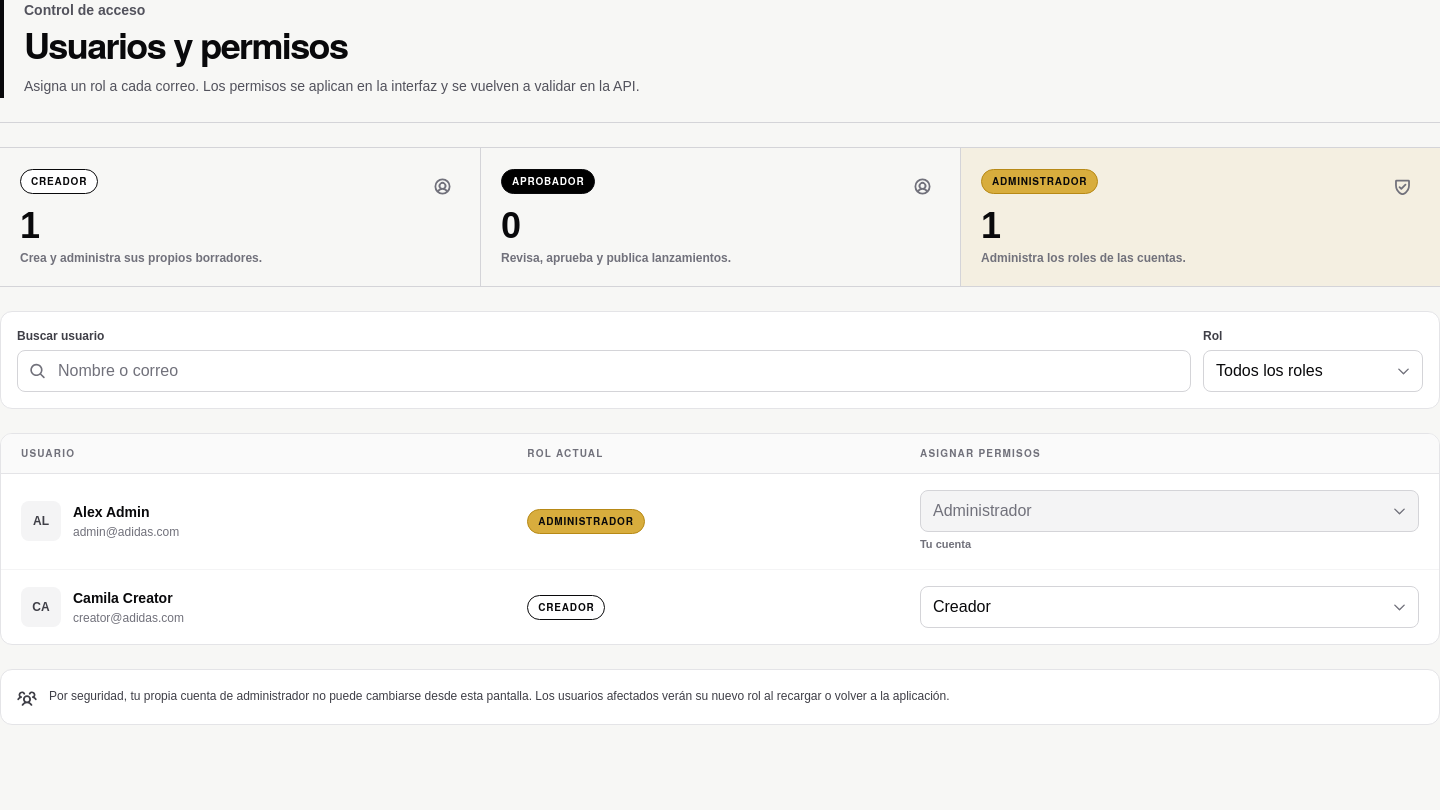
Test case: UserManagementPage › requests confirmation before updating a role
Select "Aprobador" in the dropdown named "Rol de creator@adidas.com" at (1170, 606), box [920, 586, 1419, 628]
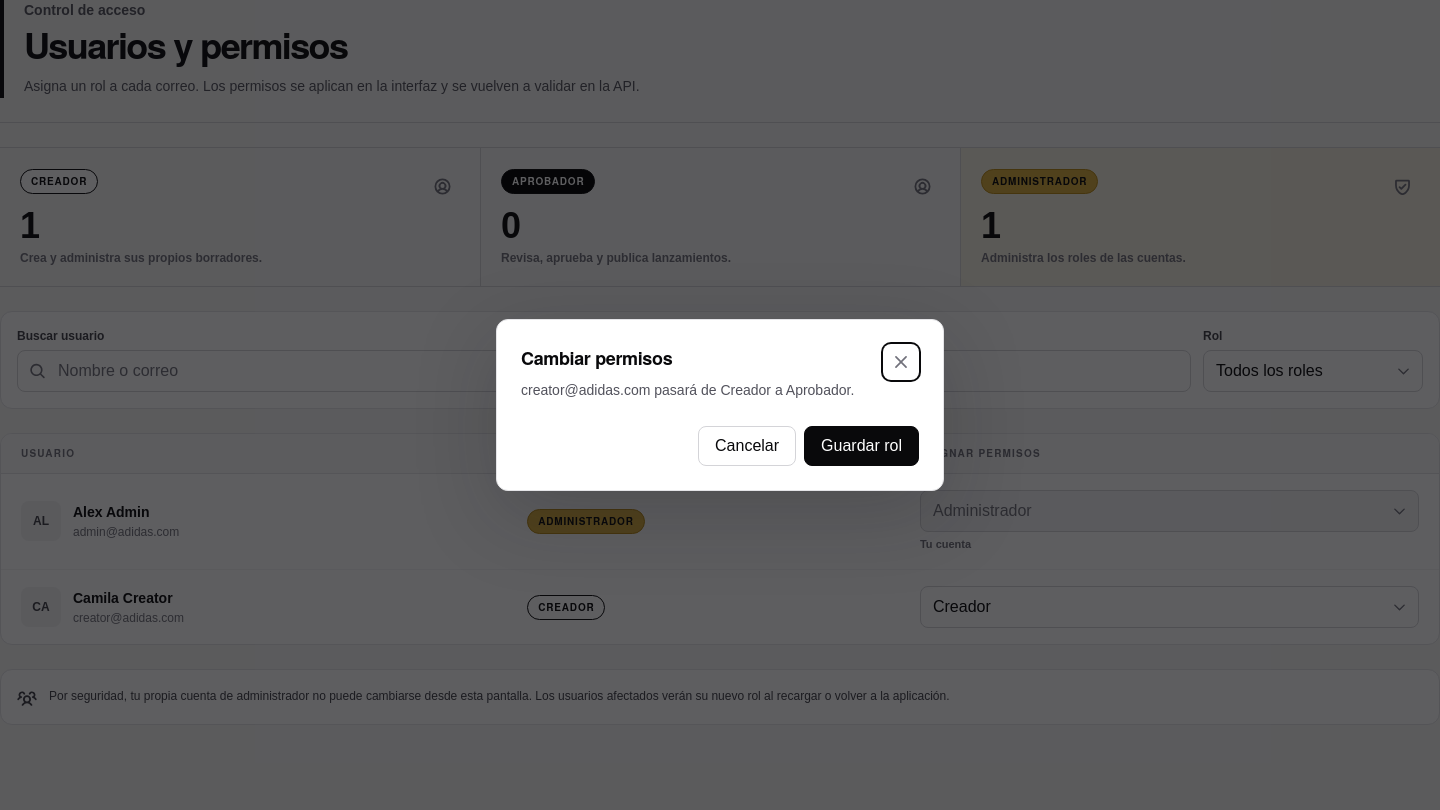
Expected: the dialog is shown, [496, 319, 944, 491]
Click the button "Guardar rol" at (862, 446), box [804, 426, 919, 466]
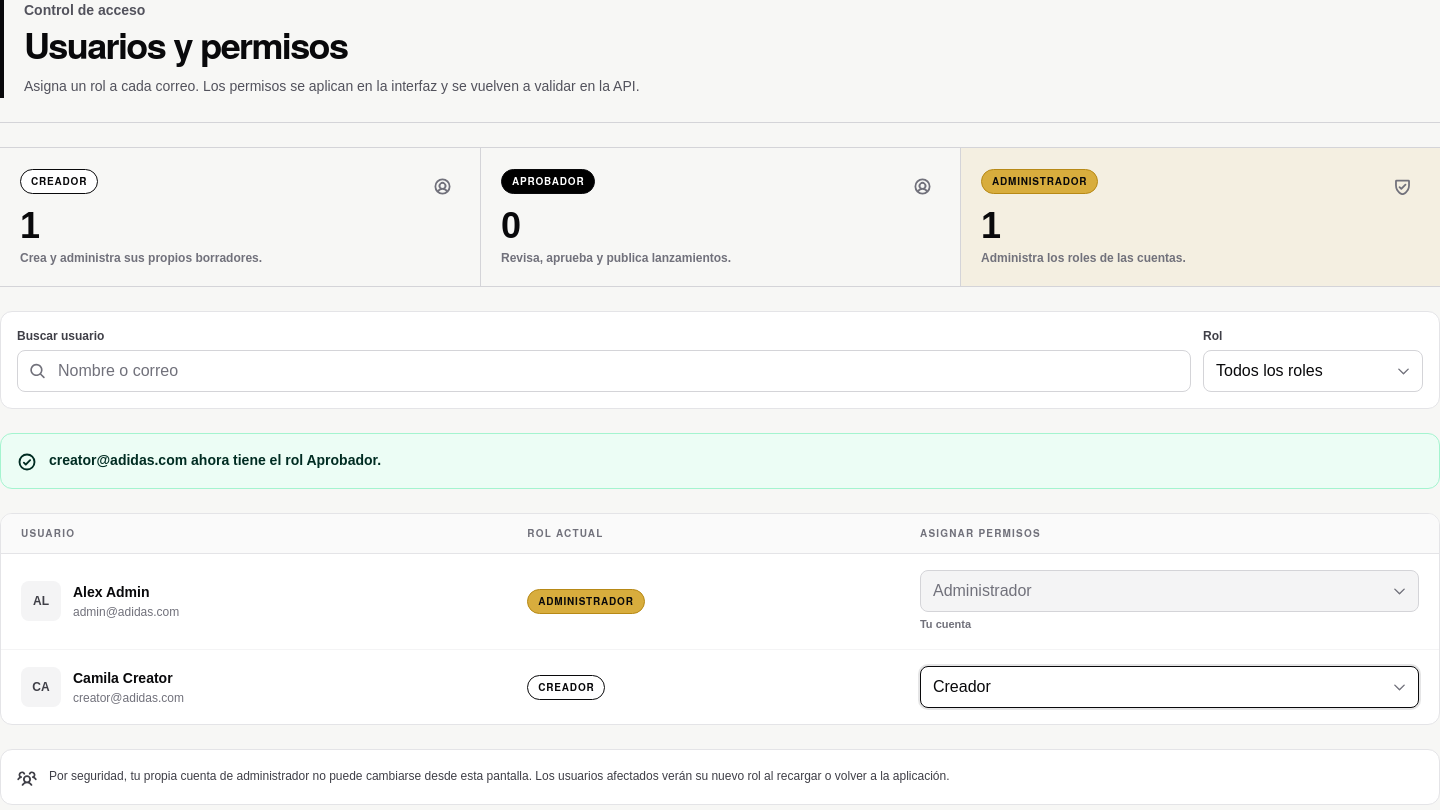
Expected: the text "creator@adidas.com ahora tiene el rol Aprobador." is shown, [49, 452, 381, 468]
